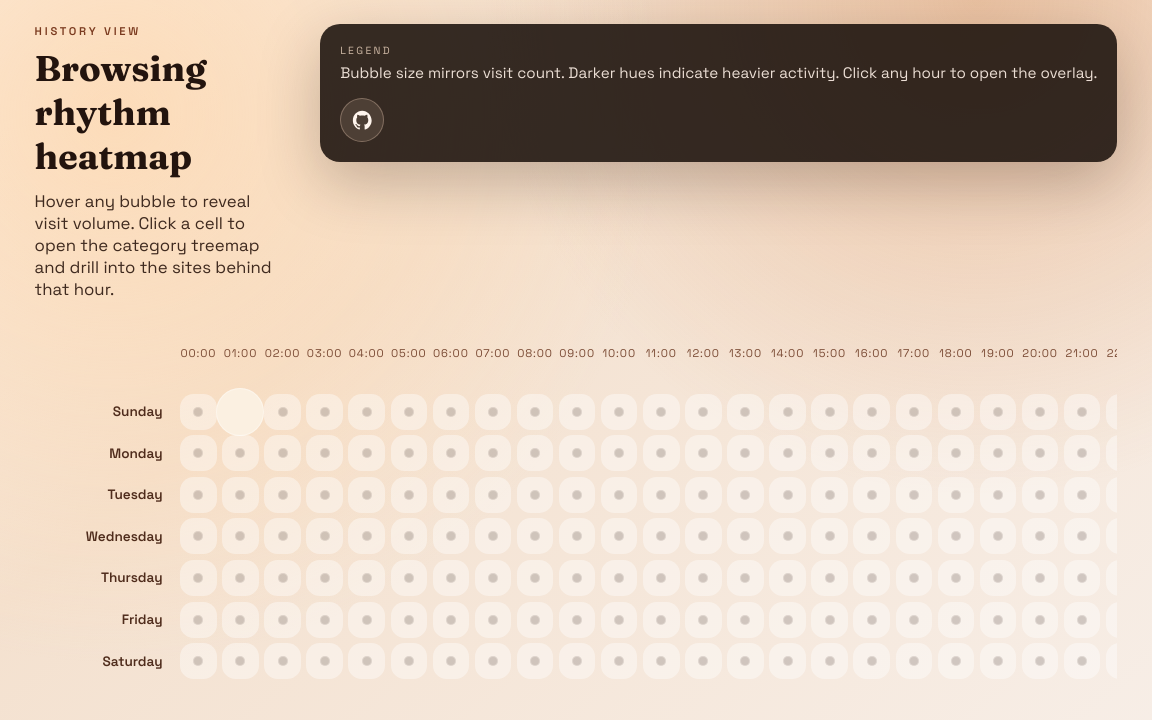
Test: App › tries padded then unpadded level1 filenames
The width and height of the screenshot is (1152, 720).
Step 1. Click the button named "sunday at 01:00 with 3 visits" → (240, 412), box [222, 394, 259, 430]
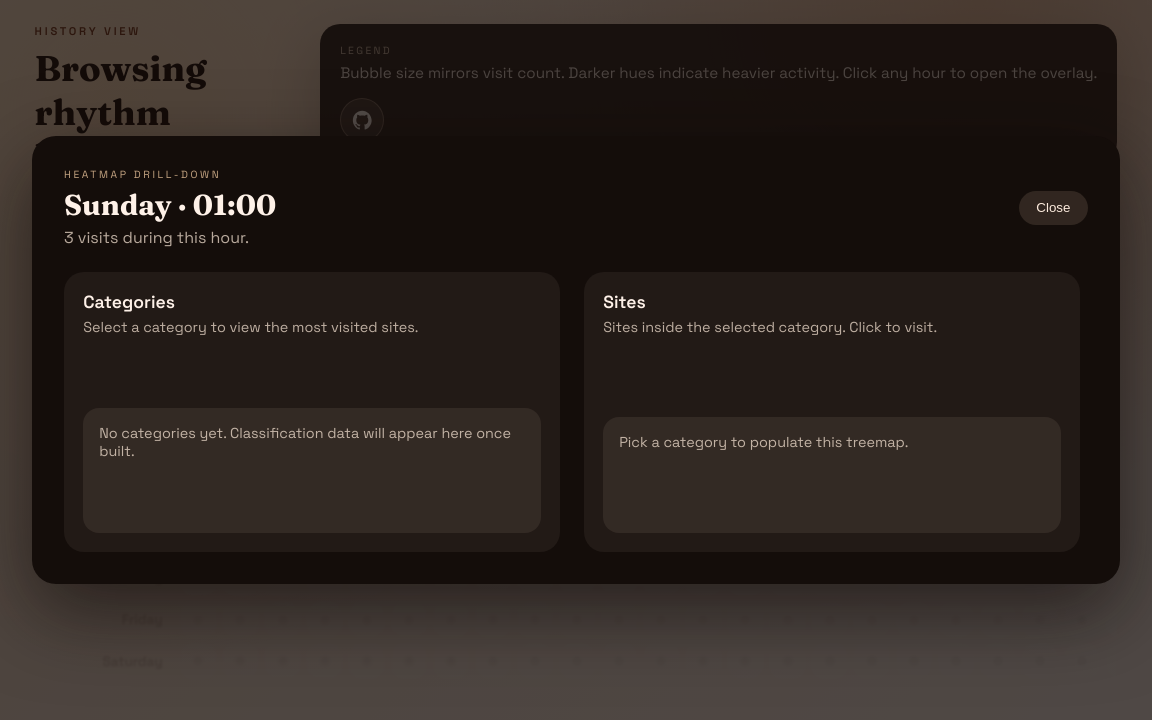
Expected: the text "No categories yet" is shown, [99, 424, 511, 460]
